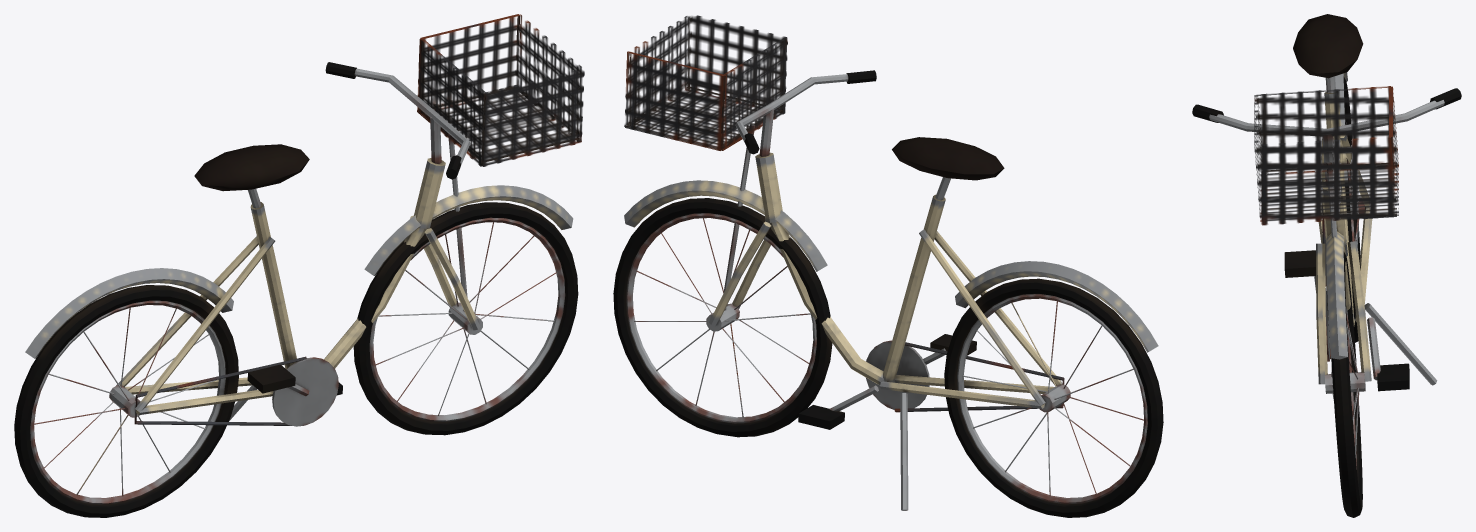
Rendered from bicycle.glb.
The picture shows the model from 3 angles, left to right: view 1: azimuth 30°, elevation 25°; view 2: azimuth 150°, elevation 25°; view 3: azimuth 270°, elevation 25°; orthographic projection. The views are drawn at different scales.
Visible parts, largest first — view 1: bicycle; view 2: bicycle; view 3: bicycle.
Part boxes in pixels (x1,y1,x2,y2): bicycle: [14, 14, 584, 517]; bicycle: [613, 15, 1163, 517]; bicycle: [1192, 14, 1461, 517].
Size of what is drawn, in the model's own units: 1.72 by 1.13 by 0.6788.
Materials: 1 (1 with a texture image).
